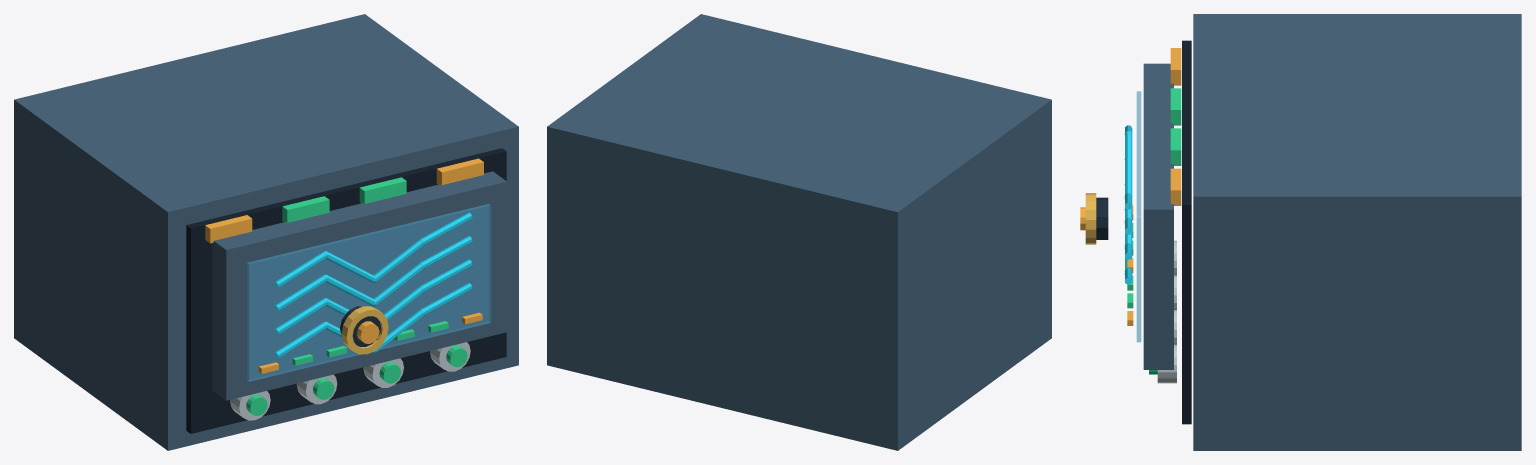
Rendered from 68_L81_PrecisionDigitalProbeBank.fbx.
3 views of the same model, side by side, from view 1: azimuth 30°, elevation 25°; view 2: azimuth 150°, elevation 25°; view 3: azimuth 270°, elevation 25° (orthographic). The views are drawn at different scales.
Parts seen in each view (by area): view 1: PrecisionDigitalProbeBank; view 2: PrecisionDigitalProbeBank; view 3: PrecisionDigitalProbeBank.
Boxes of the visible parts, x1=… form: PrecisionDigitalProbeBank: x1=14, y1=14, x2=518, y2=450; PrecisionDigitalProbeBank: x1=547, y1=14, x2=1051, y2=450; PrecisionDigitalProbeBank: x1=1080, y1=14, x2=1521, y2=450.
Size of the model in its own units: 100 by 65 by 102.
